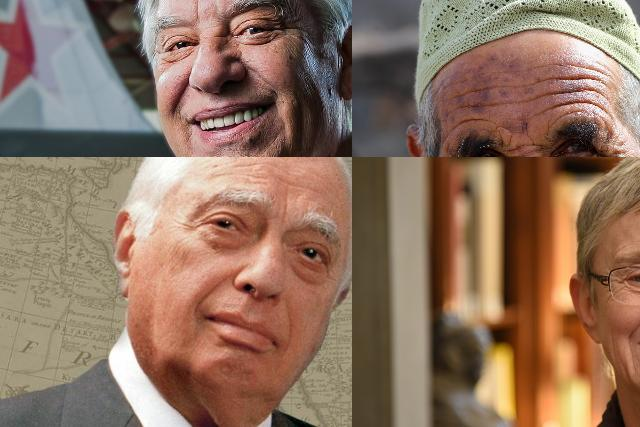bunny_line: (213, 30, 227, 48)
crows_feet: (181, 213, 207, 238), (271, 16, 287, 38), (610, 272, 624, 294), (594, 147, 620, 157)
forehead: (561, 71, 601, 110), (456, 82, 496, 112), (520, 80, 550, 112), (456, 110, 496, 126), (245, 169, 269, 187)
frown_line: (506, 140, 543, 157), (280, 184, 290, 222), (190, 2, 204, 26)
gummy_smile: (196, 269, 224, 308), (280, 307, 300, 359), (168, 78, 192, 114), (624, 304, 640, 337)
masseter: (607, 328, 619, 362)
sad_smile: (625, 343, 640, 372)
